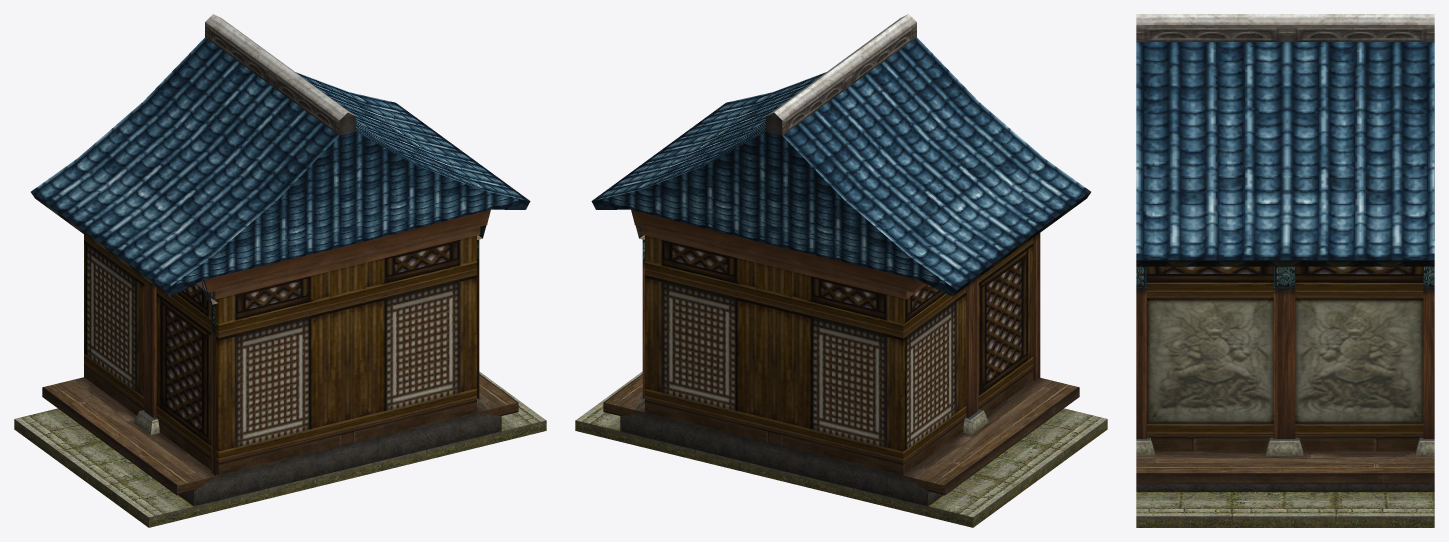
Rendered from secret_wall_00_01.fbx.
3 views of the same model, side by side, from view 1: azimuth 30°, elevation 25°; view 2: azimuth 150°, elevation 25°; view 3: azimuth 270°, elevation 25° (orthographic). The views are drawn at different scales.
Parts seen in each view (by area): view 1: secret_wall_00_01; view 2: secret_wall_00_01; view 3: secret_wall_00_01.
Part boxes in pixels (bbox=[...]): secret_wall_00_01: bbox=[14, 14, 546, 527]; secret_wall_00_01: bbox=[575, 14, 1107, 527]; secret_wall_00_01: bbox=[1136, 14, 1434, 527].
Size of the model in its own units: 12.8 by 11.29 by 7.5.
